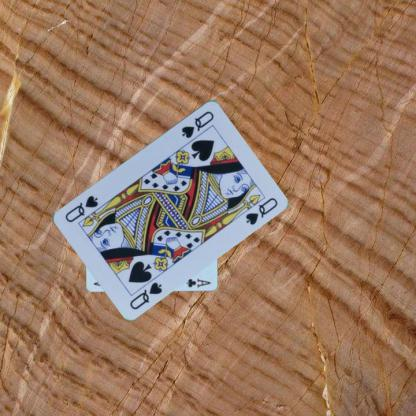Qs: (127, 278, 164, 311), (178, 108, 216, 139)
